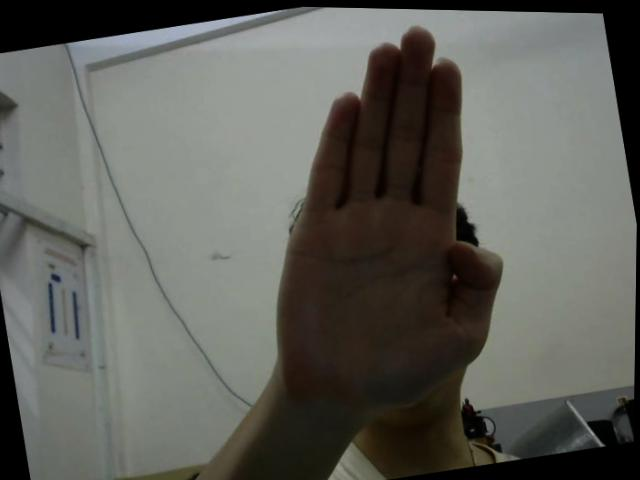B: (224, 13, 529, 427)
